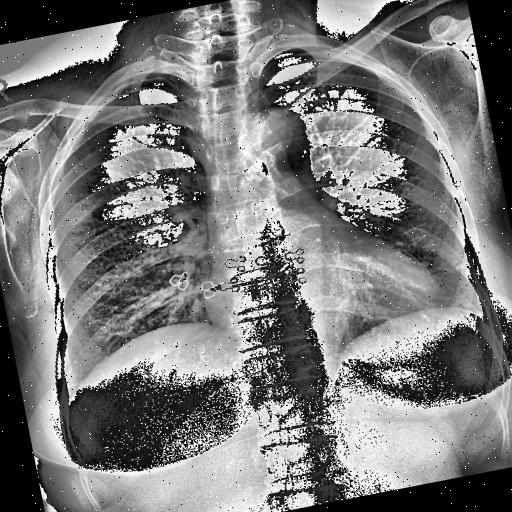0- Aortic enlargement: (239, 104, 316, 186), (236, 102, 314, 180), (236, 100, 308, 160)
3- Cardiomegaly: (198, 248, 452, 376), (200, 236, 440, 352), (200, 240, 442, 350)
